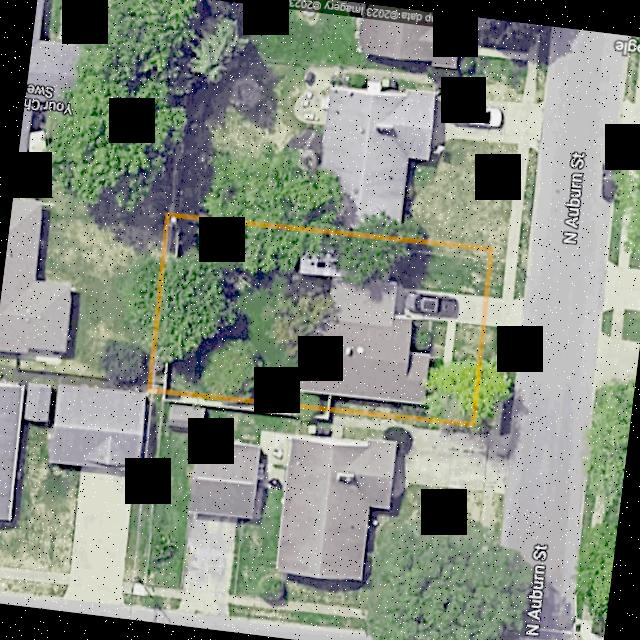Driveway: (394, 287, 483, 326)
Extra Driveway: (485, 295, 524, 331)
Extra Lawn: (499, 327, 520, 429), (489, 248, 506, 298), (513, 251, 528, 300), (482, 325, 500, 361)
Extra Sidewalk: (501, 250, 518, 299)
House: (299, 277, 429, 405)
Other: (301, 250, 342, 277)
Sidewalk: (443, 321, 455, 362)
